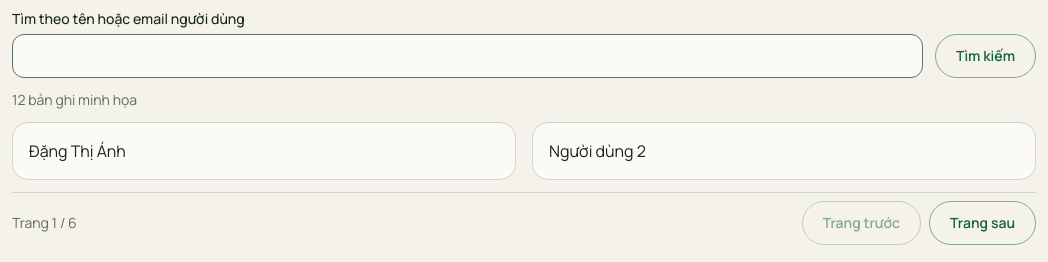
Test: Admin record list › submits immediately and cancels debounce so later pagination is preserved
Type "nguoi dung" into the field at (468, 56), box [12,34,923,78]
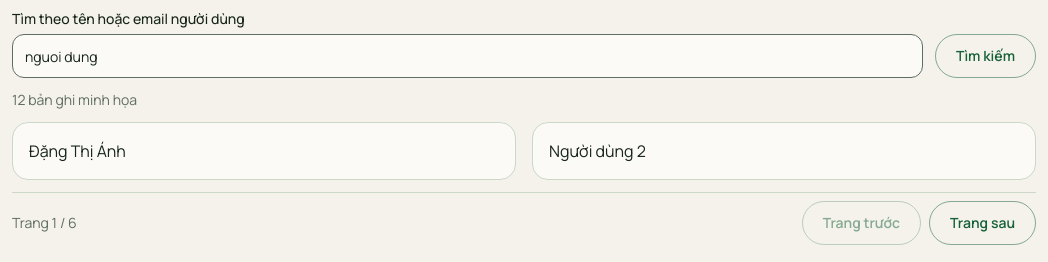
Click the button "Tìm kiếm" at (986, 56), box [935,34,1036,78]
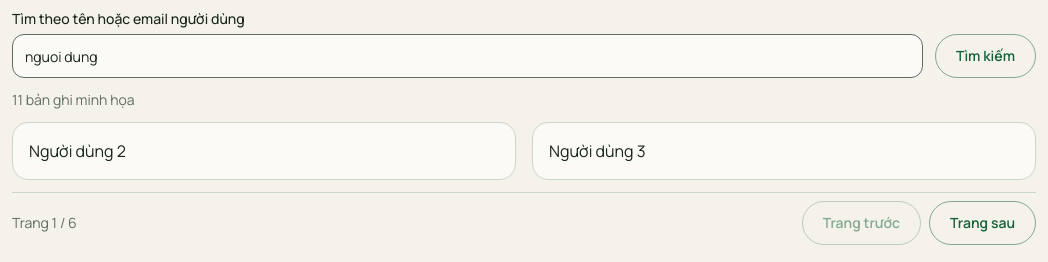
Click the button "Trang sau" at (983, 223), box [929,201,1036,245]
Wait 500 ms
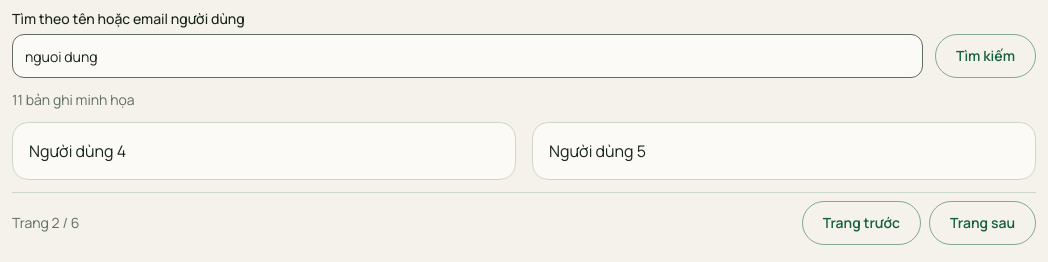
Result: the text "Trang 2 / 6" is shown at [12,213,79,233]
